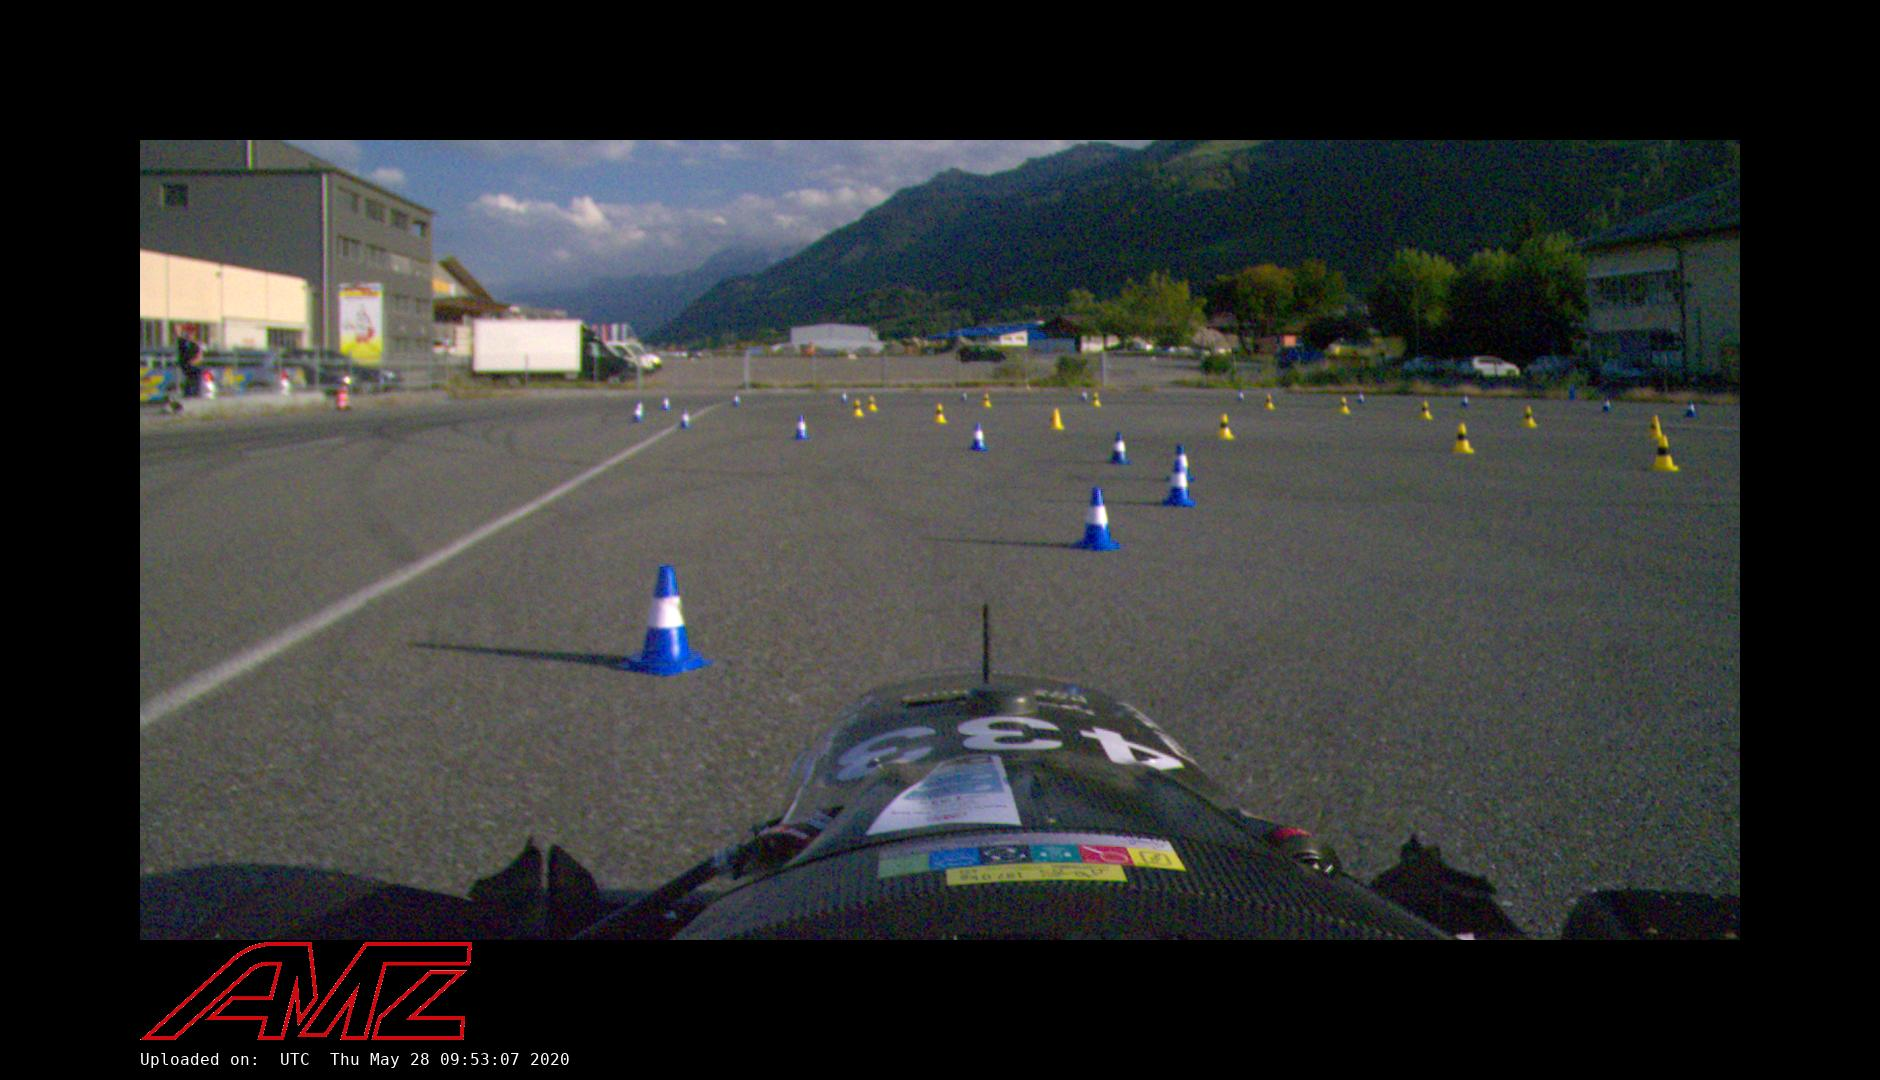blue_cone: (614, 566, 714, 677), (1067, 488, 1125, 552), (1161, 461, 1196, 508), (1165, 444, 1195, 482), (1108, 433, 1132, 465), (969, 423, 988, 451), (791, 415, 810, 440), (679, 409, 692, 429), (632, 406, 644, 422), (1686, 401, 1698, 417), (1601, 396, 1612, 412), (635, 400, 645, 416), (662, 396, 672, 410), (732, 393, 742, 407), (1460, 394, 1470, 408), (840, 391, 849, 403), (1237, 390, 1245, 402), (1082, 389, 1089, 402), (961, 390, 967, 402), (1359, 393, 1366, 403)
yellow_cone: (1649, 436, 1679, 472), (1452, 424, 1475, 454), (1216, 414, 1234, 440), (1647, 415, 1664, 439), (1521, 406, 1538, 428), (1049, 409, 1065, 430), (933, 404, 948, 423), (1419, 402, 1433, 420), (851, 399, 864, 417), (866, 395, 878, 411), (1339, 397, 1351, 413), (1263, 395, 1275, 409), (982, 394, 992, 408), (1092, 393, 1101, 407)
